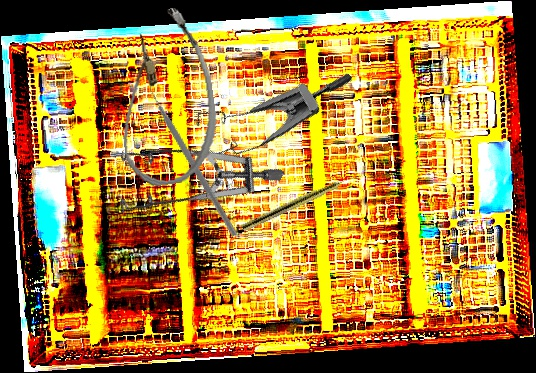Cannula: (106, 4, 225, 190)
Chopper: (104, 74, 285, 237)
Handpiece: (240, 170, 361, 234)
Speculum: (95, 94, 285, 275), (180, 20, 355, 189)
